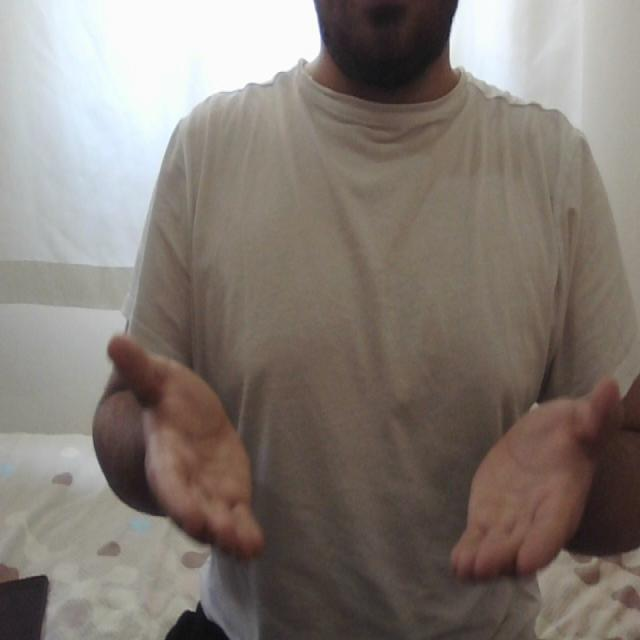Evet: (107, 330, 640, 586)
